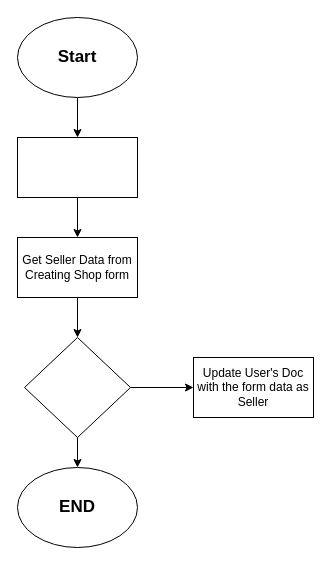
The diagram is 331 pixels wide and 565 high, and some of its shapes have lost their labels. Here are the shapes that lost their labels. From the top down, the centre of each, then its label:
At (77,167): "Get UserID".
At (77,387): "Create a Fingers Shop ?".
